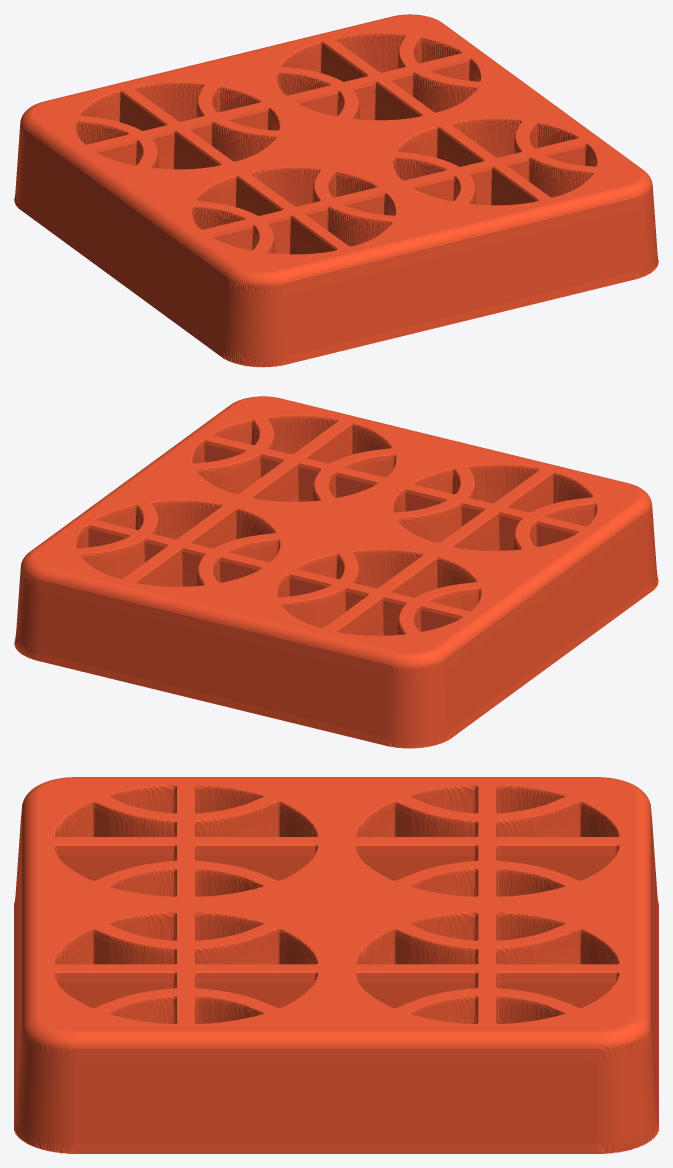
File: mold.glb
3 views of the same model, one above another, from view 1: azimuth 30°, elevation 25°; view 2: azimuth 150°, elevation 25°; view 3: azimuth 270°, elevation 25° (orthographic). The views are drawn at different scales.
Visible parts, largest first — view 1: geometry_0; view 2: geometry_0; view 3: geometry_0.
Part boxes in pixels (x1,y1,x2,y2): geometry_0: (14, 14, 658, 367); geometry_0: (14, 396, 658, 748); geometry_0: (14, 777, 658, 1153).
Size of the model in its own units: 0.0942 by 0.0182 by 0.0942.
